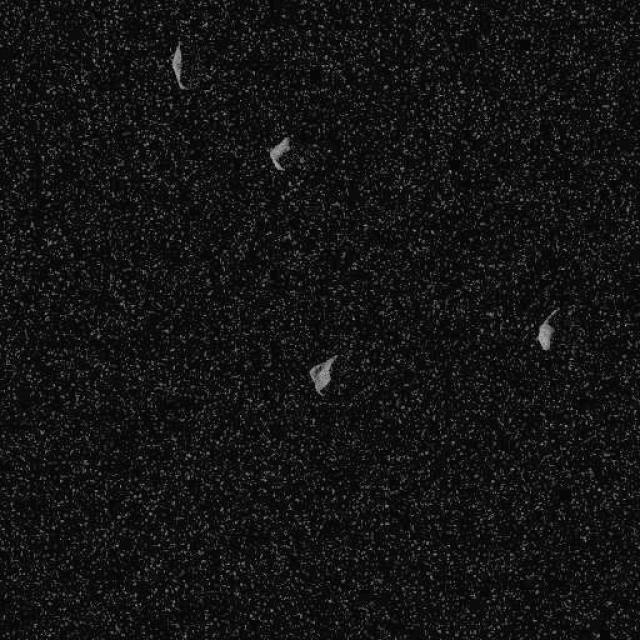D2: (308, 354, 338, 396), (535, 306, 560, 352), (168, 41, 188, 90), (268, 135, 292, 171)
